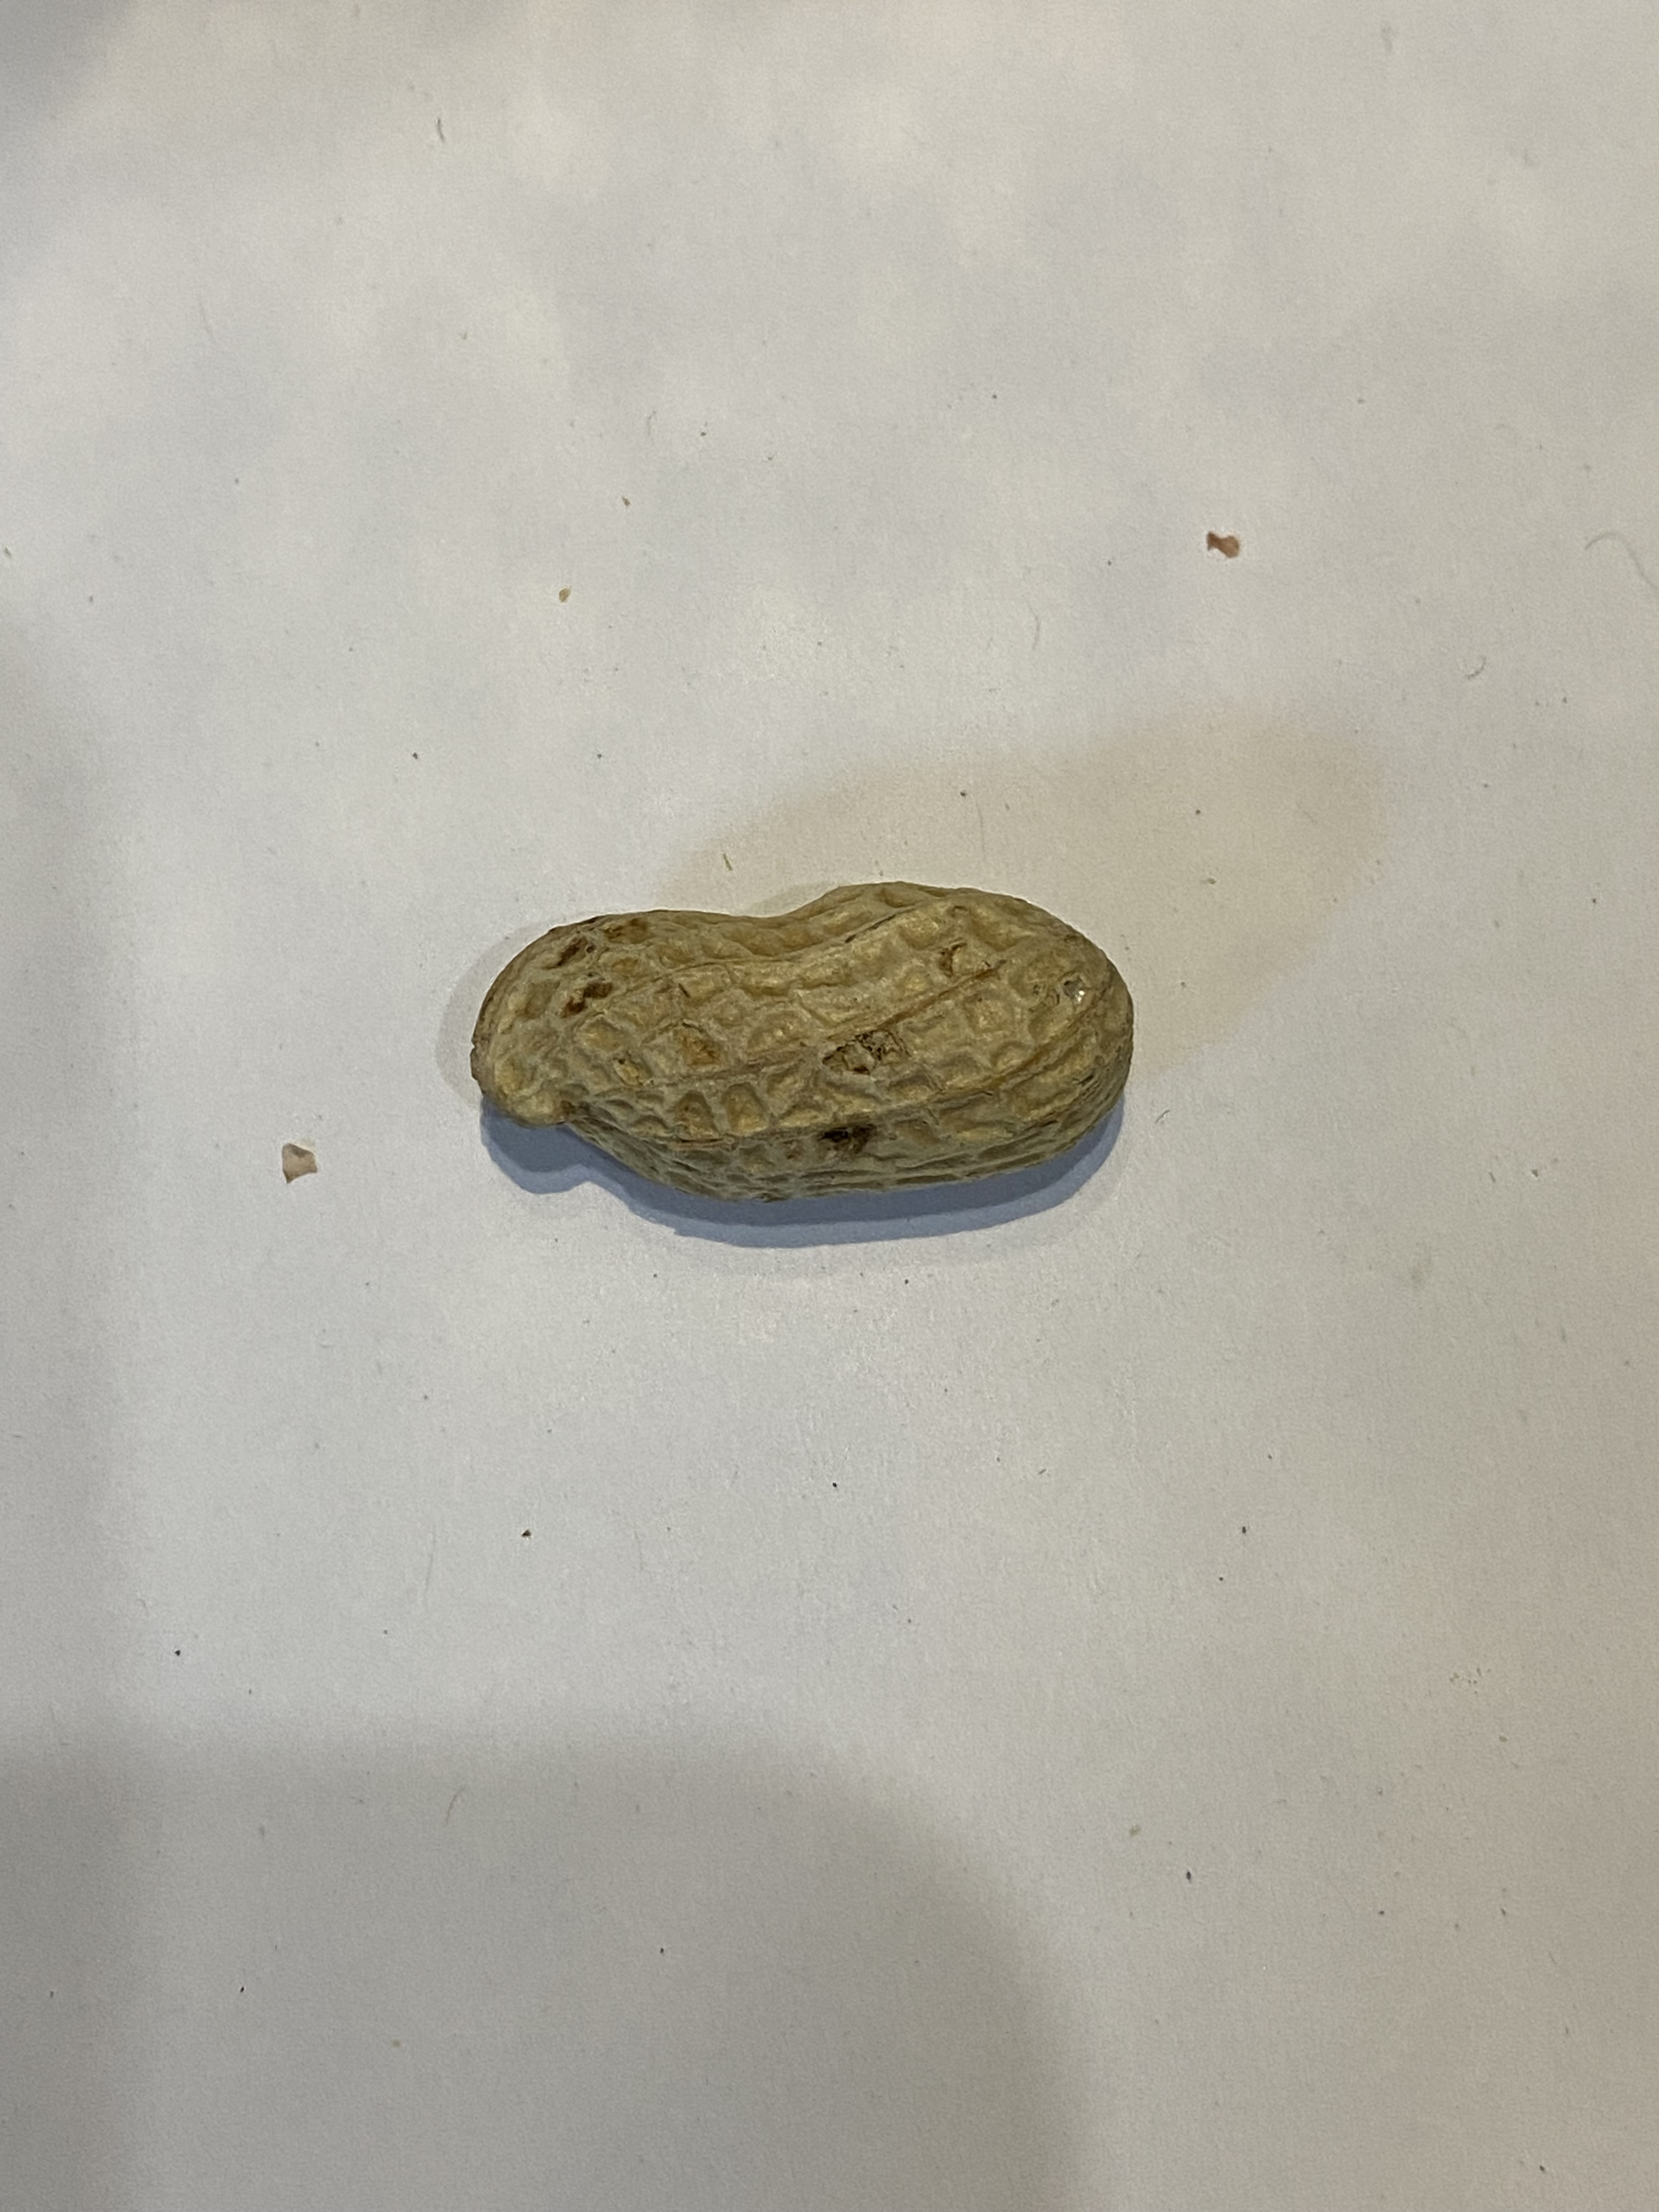kacang2: (467, 805, 1168, 1212)
